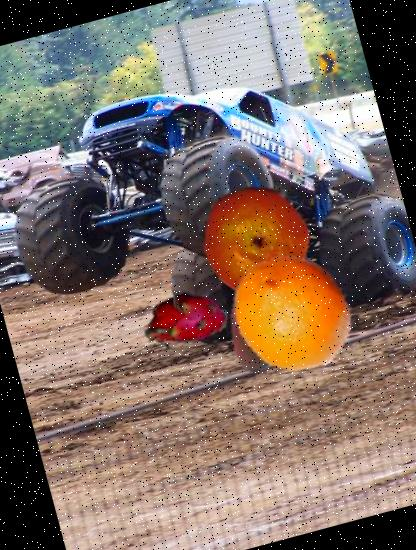Clementine: (188, 170, 326, 306)
Hazelnut: (196, 255, 326, 386)
Lemon: (220, 239, 368, 389)
Pitahaya: (134, 268, 238, 372)
